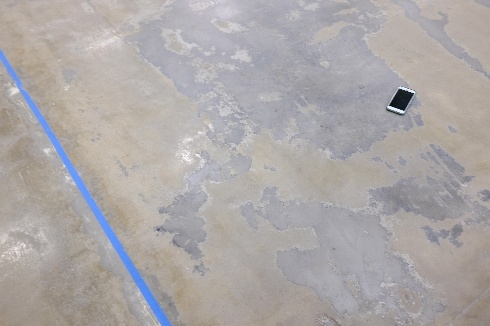phone: (377, 83, 426, 115)
